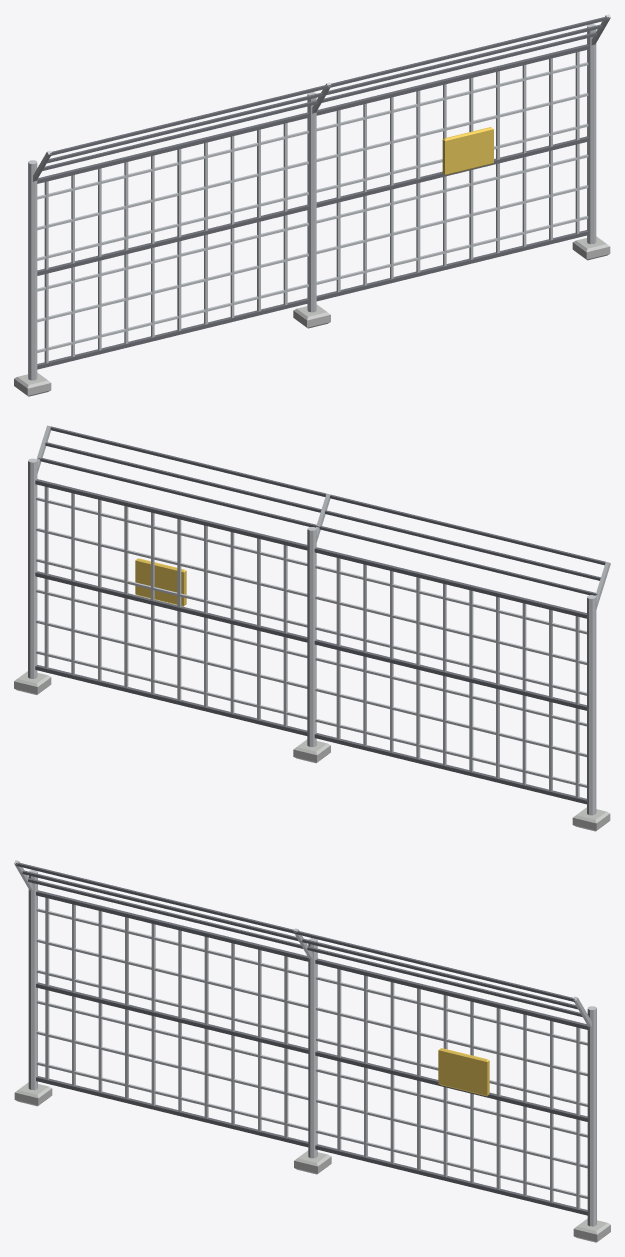
Rendered from airport-terminal-and-ground-operations-perimeter-fence-f8a14e9f.glb.
3 renders of one model, top to bottom at view 1: azimuth 30°, elevation 25°; view 2: azimuth 150°, elevation 25°; view 3: azimuth 330°, elevation 25°, orthographic.
Parts seen in each view (by area): view 1: perimeter-fence-run; view 2: perimeter-fence-run; view 3: perimeter-fence-run.
Boxes of the visible parts, box(x1,y1,x2,y2) form: perimeter-fence-run: box(14, 14, 610, 396); perimeter-fence-run: box(14, 425, 610, 831); perimeter-fence-run: box(14, 860, 610, 1242).
Size of the model in its own units: 8.34 by 3.43 by 0.6099.
